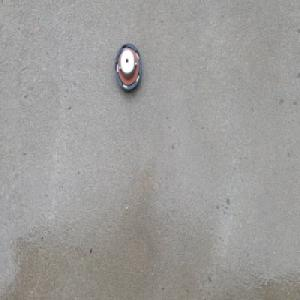FuelCap: (114, 41, 142, 92)
